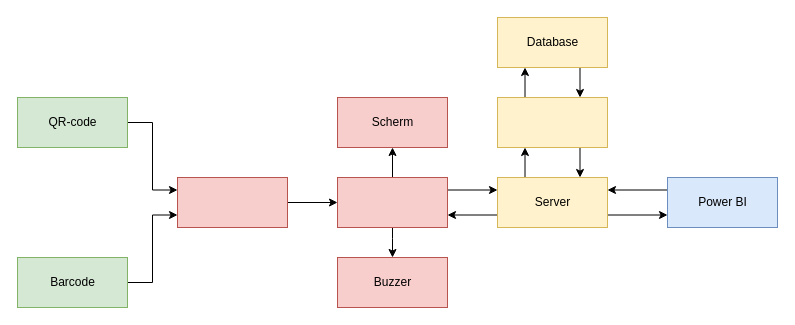
This 795x325 diagram has some shape labels left out. The shapes that lost their labels are listed below. From the top down, each one's centre as x and y in pixels, then its label:
At point (552, 122): "API".
At point (232, 202): "2D scanner".
At point (392, 202): "Raspberry Pi".
